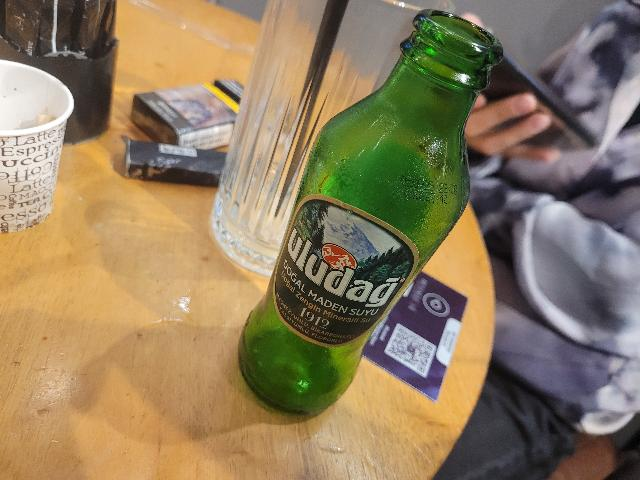Cam: (257, 2, 508, 437)
Kagit: (0, 52, 75, 245), (130, 59, 236, 148)
Plastik: (378, 265, 467, 413)
